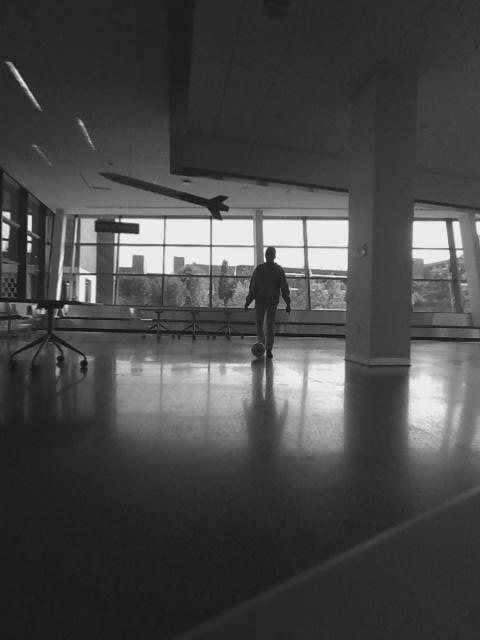ball: (249, 340, 267, 358)
